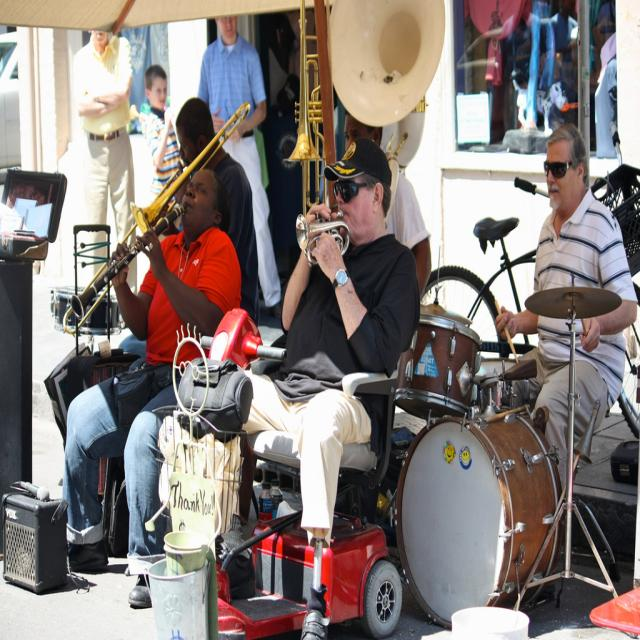clarinet: (66, 200, 192, 312)
drums: (396, 270, 623, 620)
